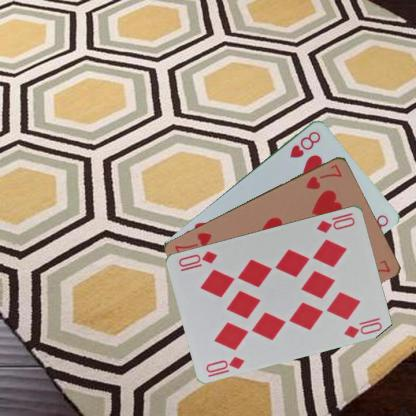10d: (314, 210, 356, 234), (204, 353, 246, 374)
7h: (303, 161, 343, 191)
8h: (287, 128, 322, 159)
